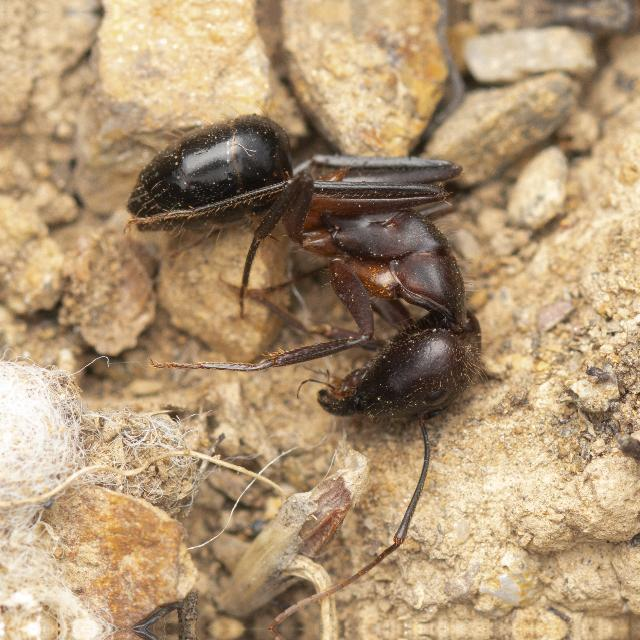Camponotus: (108, 97, 520, 459)
